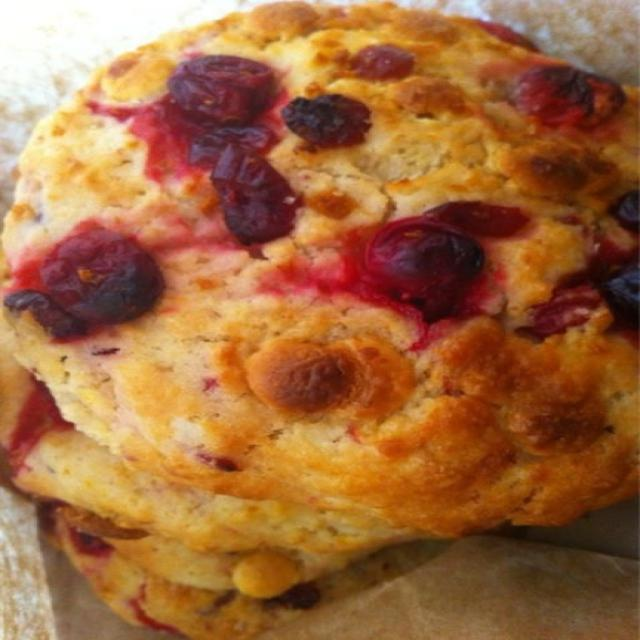面包点心: (9, 13, 632, 634)
